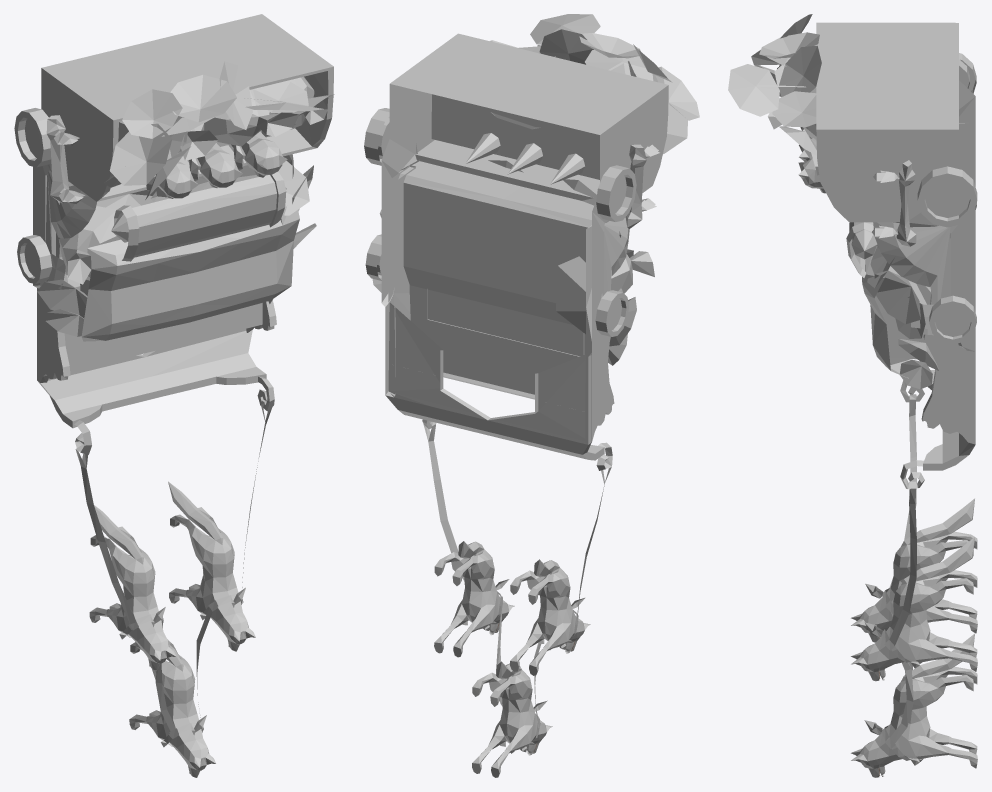
The model's file is hashiqixueqiaoquan_5.obj.
The picture shows the model from 3 angles, left to right: view 1: azimuth 30°, elevation 25°; view 2: azimuth 150°, elevation 25°; view 3: azimuth 270°, elevation 25°; orthographic projection. The views are drawn at different scales.
Parts seen in each view (by area): view 1: Mount_xueqiaoquan5, quan, quan01, quan02, godai, Object07, Object11, Object12, Object08, Object06; view 2: Mount_xueqiaoquan5, quan01, quan, quan02, godai, Object07, Object08, Object05, Object04; view 3: Mount_xueqiaoquan5, quan, quan02, quan01, godai, Object05, Object04, Object07, Object11.
Part boxes in pixels (x1,y1,x2,y2): Mount_xueqiaoquan5: (33, 14, 334, 747); quan: (168, 481, 255, 651); quan01: (89, 505, 176, 670); quan02: (129, 639, 216, 777); godai: (74, 376, 274, 731); Object07: (14, 108, 51, 167); Object11: (228, 131, 287, 177); Object12: (187, 143, 242, 187); Object08: (17, 235, 52, 283); Object06: (146, 161, 198, 198); Mount_xueqiaoquan5: (372, 14, 699, 753); quan01: (509, 559, 590, 675); quan: (434, 541, 514, 657); quan02: (472, 661, 552, 777); godai: (422, 419, 612, 723); Object07: (596, 165, 636, 221); Object08: (595, 290, 628, 336); Object05: (364, 108, 389, 165); Object04: (365, 234, 381, 280); Mount_xueqiaoquan5: (728, 14, 975, 765); quan: (851, 537, 977, 681); quan02: (851, 633, 977, 777); quan01: (851, 498, 977, 642); godai: (885, 380, 924, 743); Object05: (917, 166, 977, 227); Object04: (929, 295, 976, 344); Object07: (959, 53, 976, 93); Object11: (798, 158, 825, 193).
Bounding box in the file's own units: 156 × 392 × 121.
